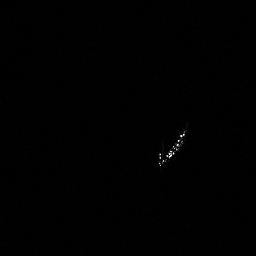ship: (153, 125, 190, 170)
